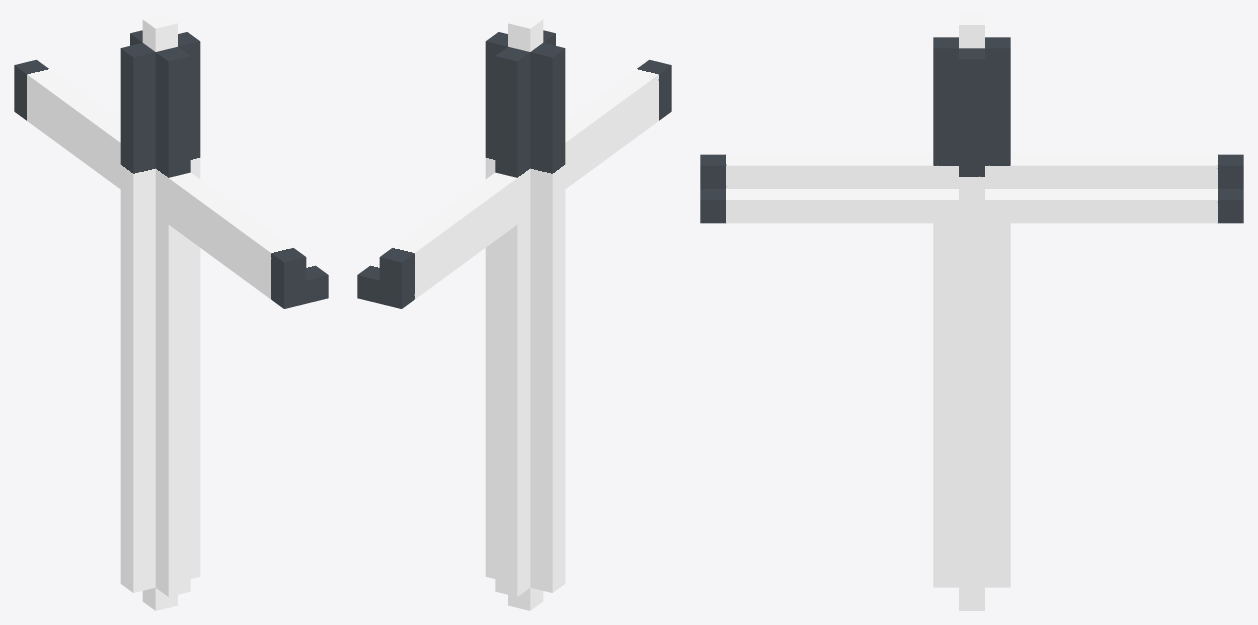
The model's file is 亡灵十字架.gltf.
3 views of the same model, side by side, from view 1: azimuth 30°, elevation 25°; view 2: azimuth 150°, elevation 25°; view 3: azimuth 270°, elevation 25° (orthographic).
Parts seen in each view (by area): view 1: Object; view 2: Object; view 3: Object.
Part boxes in pixels (bbox=[...]): Object: bbox=[14, 14, 328, 610]; Object: bbox=[357, 14, 671, 610]; Object: bbox=[700, 14, 1243, 610].
Size of the model in its own units: 3 by 25 by 21.
Materials: 1 (1 with a texture image).
